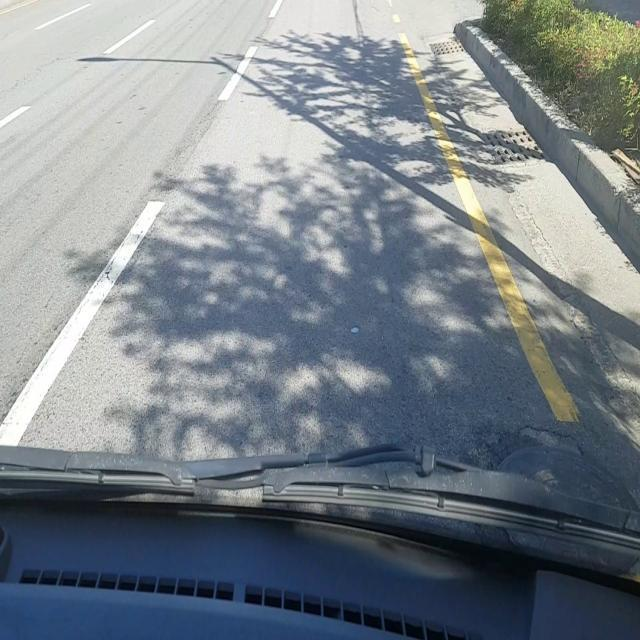pothole: (489, 425, 640, 532)
